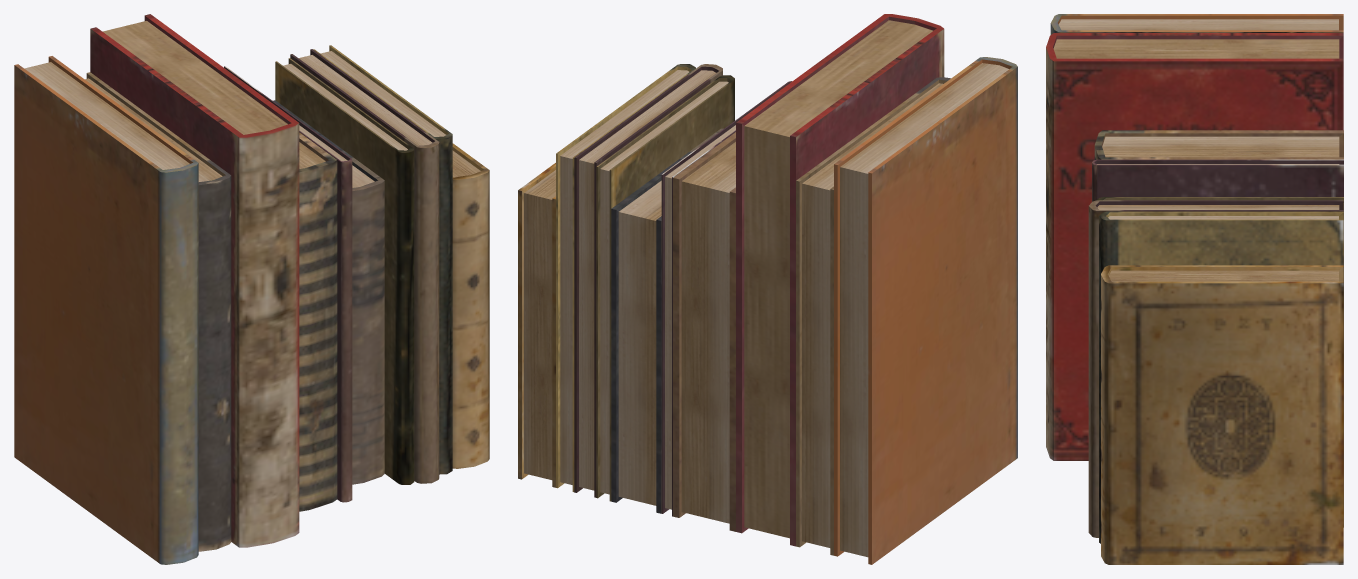
The model's file is SM_Book_Old.005.fbx.
3 views of the same model, side by side, from view 1: azimuth 30°, elevation 25°; view 2: azimuth 150°, elevation 25°; view 3: azimuth 270°, elevation 25° (orthographic). The views are drawn at different scales.
Parts seen in each view (by area): view 1: SM_Book_Old.005; view 2: SM_Book_Old.005; view 3: SM_Book_Old.005.
Part boxes in pixels (box(x1,y1,x2,y2)): SM_Book_Old.005: box(14, 14, 489, 564); SM_Book_Old.005: box(518, 14, 1017, 564); SM_Book_Old.005: box(1046, 14, 1343, 564).
Size of the model in its own units: 0.3121 by 0.3449 by 0.233.
